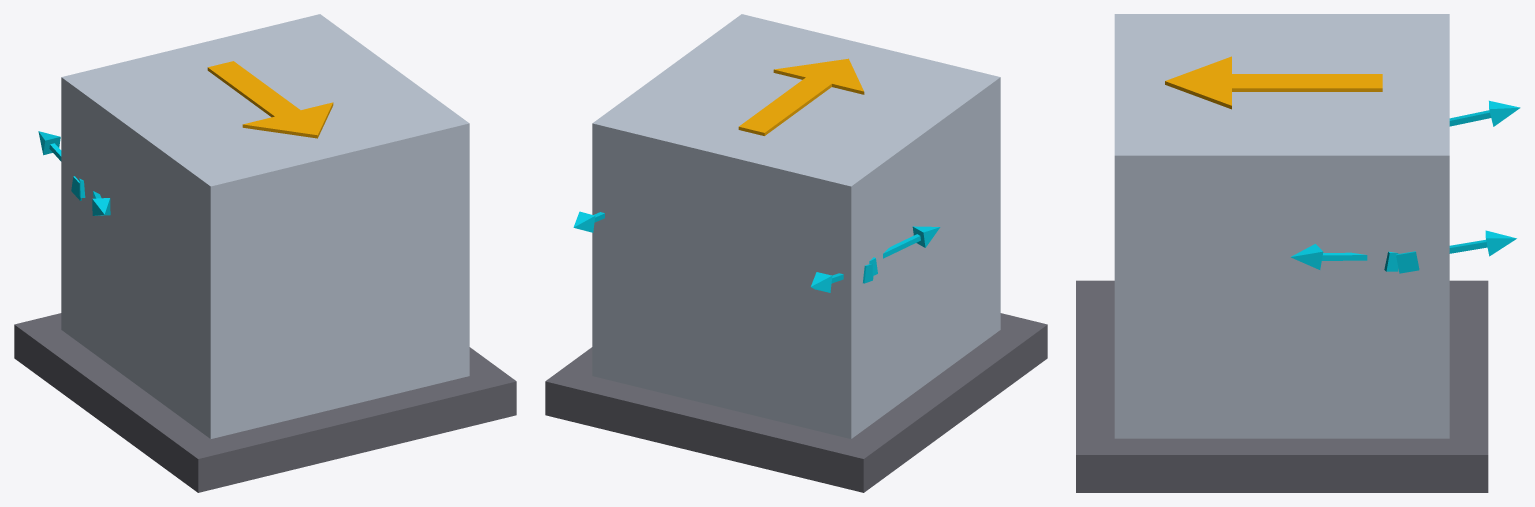
The picture shows the model from 3 angles, left to right: view 1: azimuth 30°, elevation 25°; view 2: azimuth 150°, elevation 25°; view 3: azimuth 270°, elevation 25°; orthographic projection. The views are drawn at different scales.
Visible parts, largest first — view 1: frame, bumpers, front, camera Camera4; view 2: frame, bumpers, front, camera Camera3, camera Camera4; view 3: frame, bumpers, front, camera Camera6, camera Camera5, camera Camera4.
Boxes of the visible parts, x1=… form: frame: x1=61, y1=14, x2=469, y2=438; bumpers: x1=14, y1=313, x2=516, y2=492; front: x1=207, y1=61, x2=333, y2=138; camera Camera4: x1=38, y1=131, x2=81, y2=200; frame: x1=592, y1=14, x2=1000, y2=438; bumpers: x1=545, y1=313, x2=1047, y2=492; front: x1=738, y1=58, x2=864, y2=135; camera Camera3: x1=869, y1=226, x2=940, y2=275; camera Camera4: x1=811, y1=264, x2=873, y2=292; frame: x1=1114, y1=14, x2=1449, y2=438; bumpers: x1=1076, y1=280, x2=1488, y2=492; front: x1=1165, y1=56, x2=1382, y2=109; camera Camera6: x1=1396, y1=230, x2=1516, y2=273; camera Camera5: x1=1290, y1=244, x2=1398, y2=271; camera Camera4: x1=1449, y1=100, x2=1520, y2=126.
Bounding box in the file's own units: 0.8128 × 0.78 × 0.8768.
